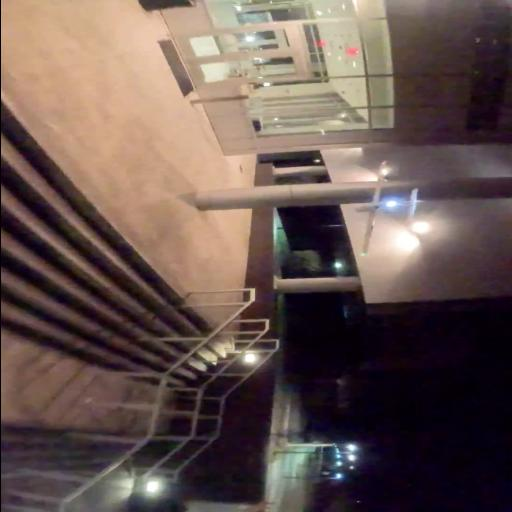uav: (342, 160, 428, 256)
